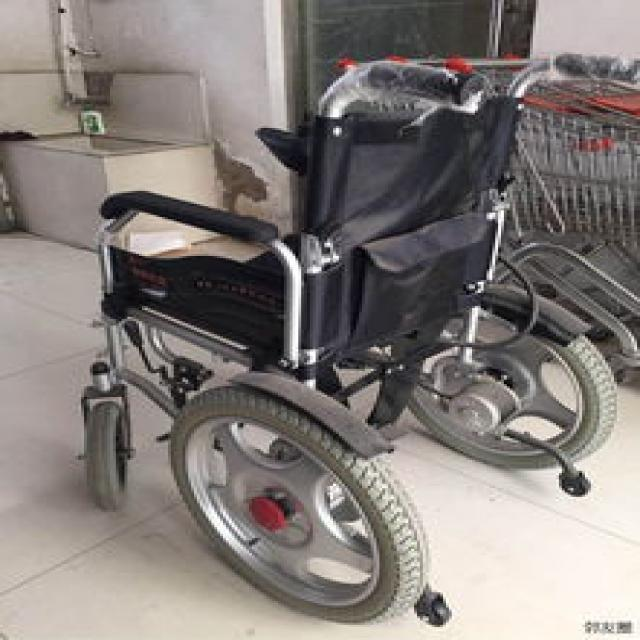wheelchair: (55, 48, 623, 625)
